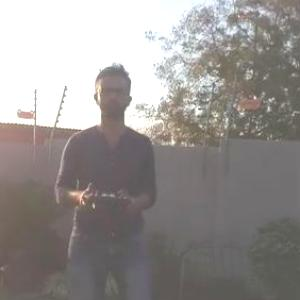follow: (44, 57, 160, 299)
